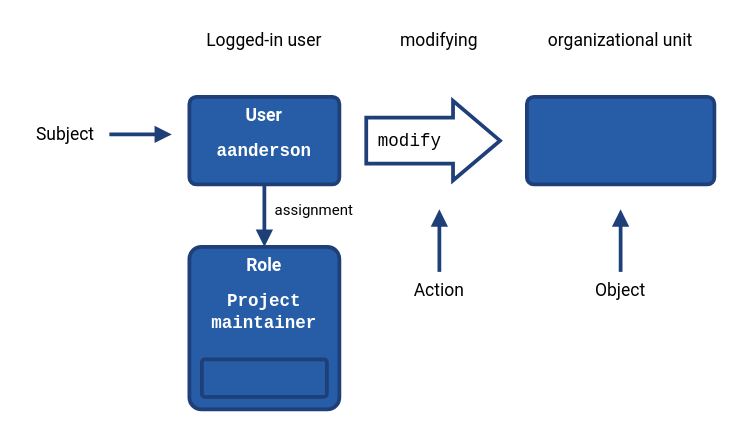
Image size: 738x433. Some labels were removed from this diagram. The shapes that lost their labels are listed below. From the top down, each one's centre as x and y in pixels, then its label:
pixel 620 140: Org Project Enigma
pixel 263 377: Authorization
